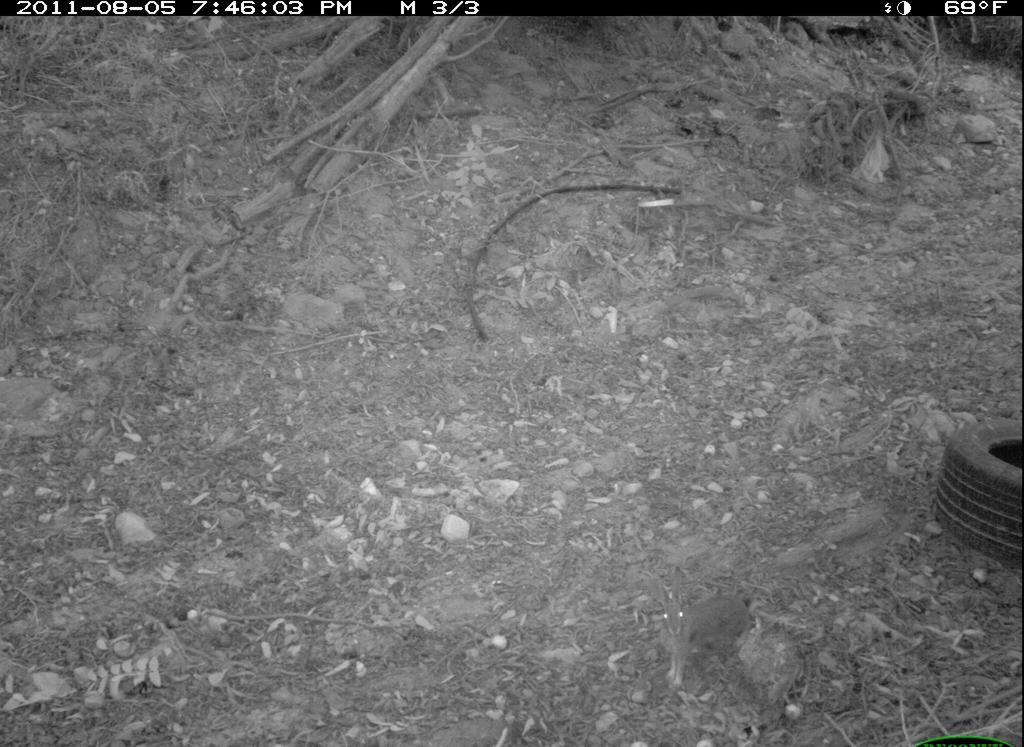rabbit: (634, 559, 760, 692)
